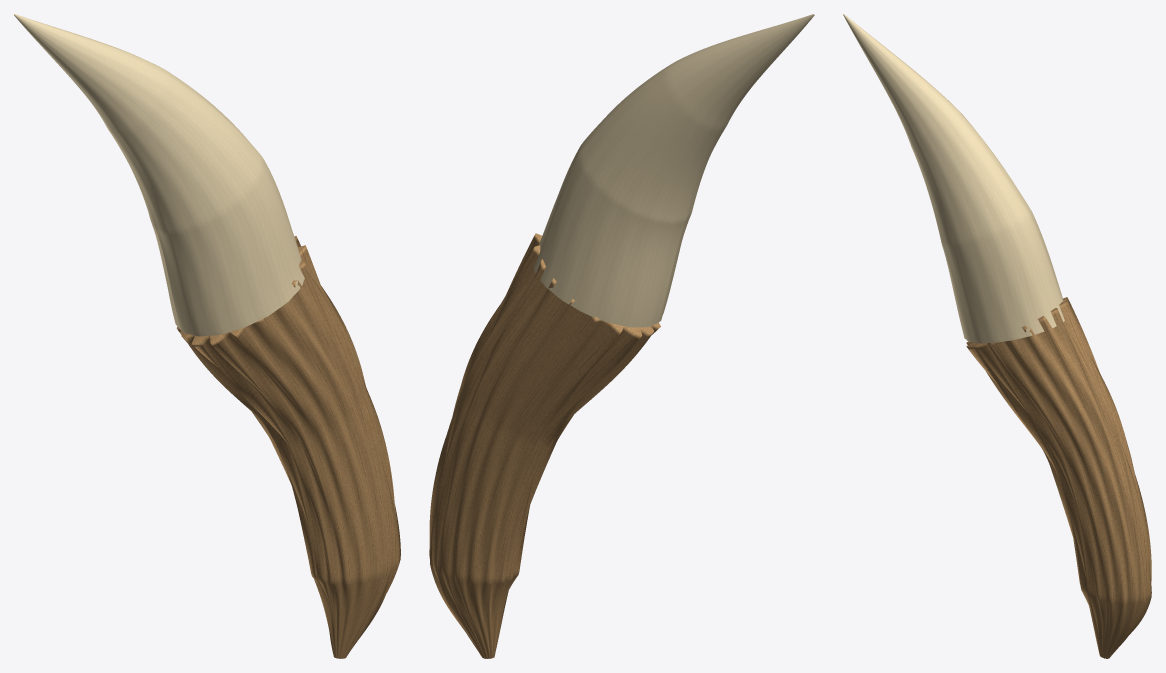
File: coyote_fang.glb
The picture shows the model from 3 angles, left to right: view 1: azimuth 30°, elevation 25°; view 2: azimuth 150°, elevation 25°; view 3: azimuth 330°, elevation 25°; orthographic projection. The views are drawn at different scales.
Visible parts, largest first — view 1: Cream polished canine enamel, Porous tan tooth root dentine; view 2: Porous tan tooth root dentine, Cream polished canine enamel; view 3: Porous tan tooth root dentine, Cream polished canine enamel.
Part boxes in pixels (x1,y1,x2,y2): Cream polished canine enamel: (14, 14, 304, 336); Porous tan tooth root dentine: (176, 236, 400, 658); Porous tan tooth root dentine: (429, 233, 660, 658); Cream polished canine enamel: (534, 14, 814, 327); Porous tan tooth root dentine: (966, 297, 1151, 658); Cream polished canine enamel: (843, 14, 1064, 343).
Size of the model in its own units: 0.1282 by 0.2315 by 0.0309.
Materials: 2 (2 with a texture image).
